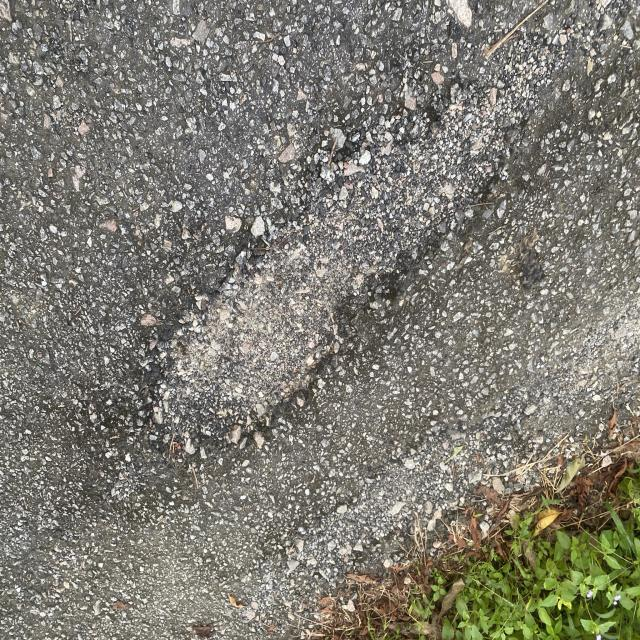Pothole: (131, 132, 415, 476)
